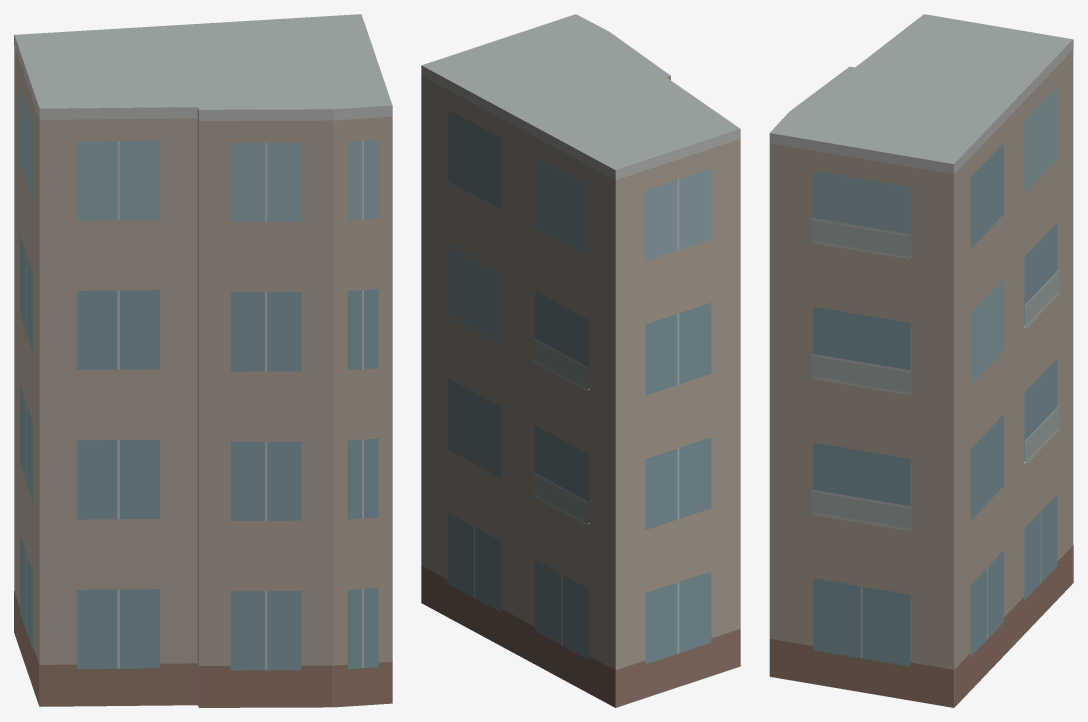
File: survey-upis-32471567.glb
3 renders of one model, left to right at view 1: azimuth 30°, elevation 25°; view 2: azimuth 150°, elevation 25°; view 3: azimuth 270°, elevation 25°, orthographic. The views are drawn at different scales.
Parts seen in each view (by area): view 1: survey-upis-32471567.tmp; view 2: survey-upis-32471567.tmp; view 3: survey-upis-32471567.tmp.
Boxes of the visible parts, left/top/right/bottom form: survey-upis-32471567.tmp: left=14, top=14, right=392, bottom=707; survey-upis-32471567.tmp: left=421, top=14, right=740, bottom=707; survey-upis-32471567.tmp: left=769, top=14, right=1073, bottom=707.
Size of the model in its own units: 7.77 by 13.1 by 6.64.
